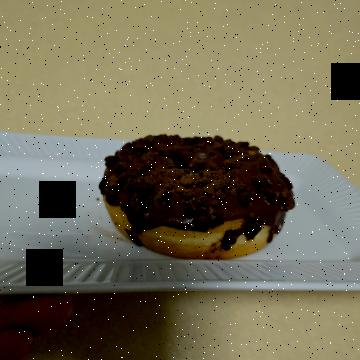doughnut: (110, 53, 270, 273)
